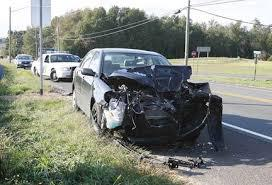bonnet-dent: (122, 60, 189, 86)
fender-dent: (92, 85, 120, 115)
